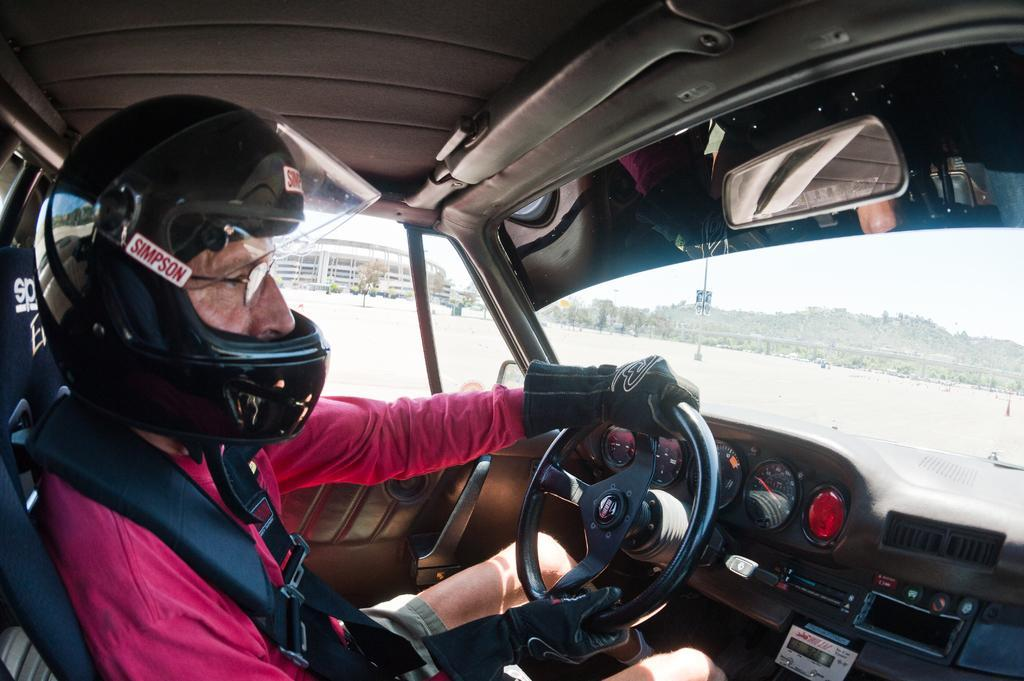helmet: (31, 92, 383, 446)
